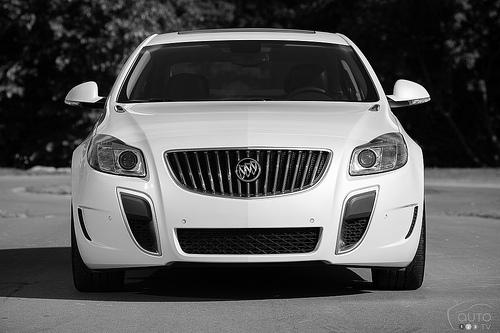car: (63, 26, 436, 296)
